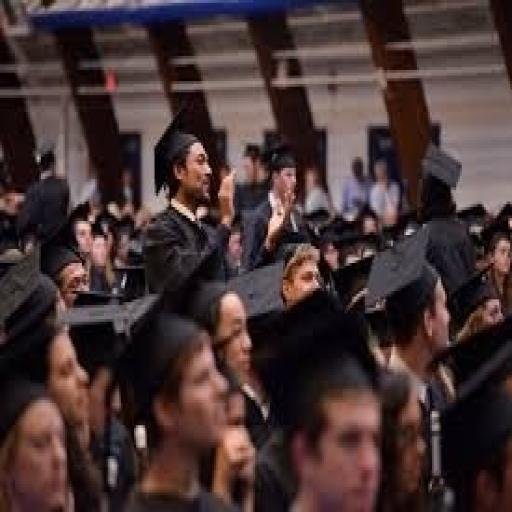clapping: (0, 120, 510, 510)
